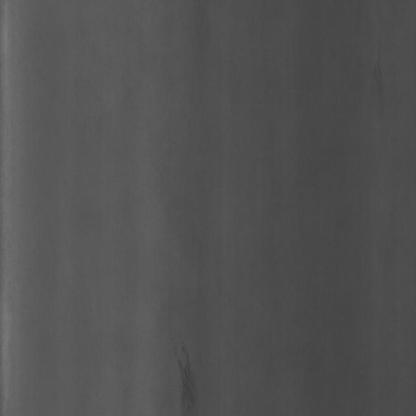water_spot: (170, 328, 203, 413)
